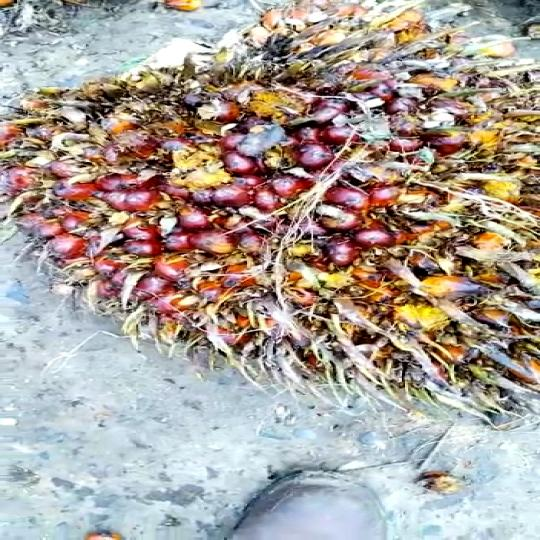masak: (0, 0, 540, 432)
